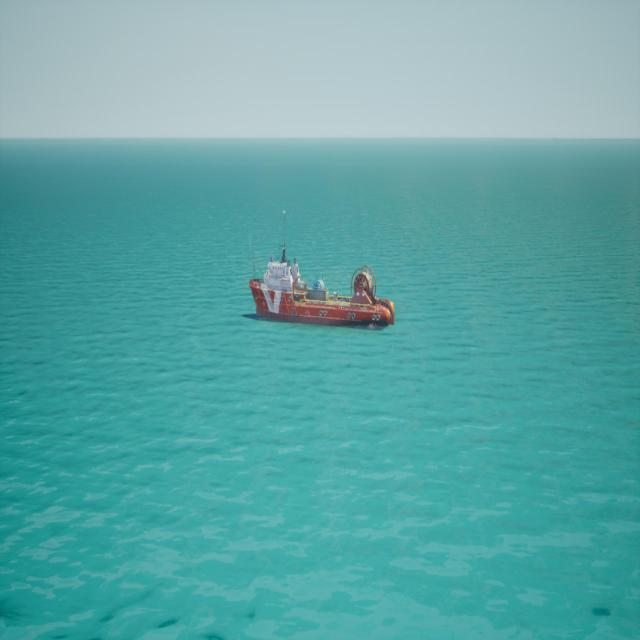tug boat: (247, 242, 396, 332)
